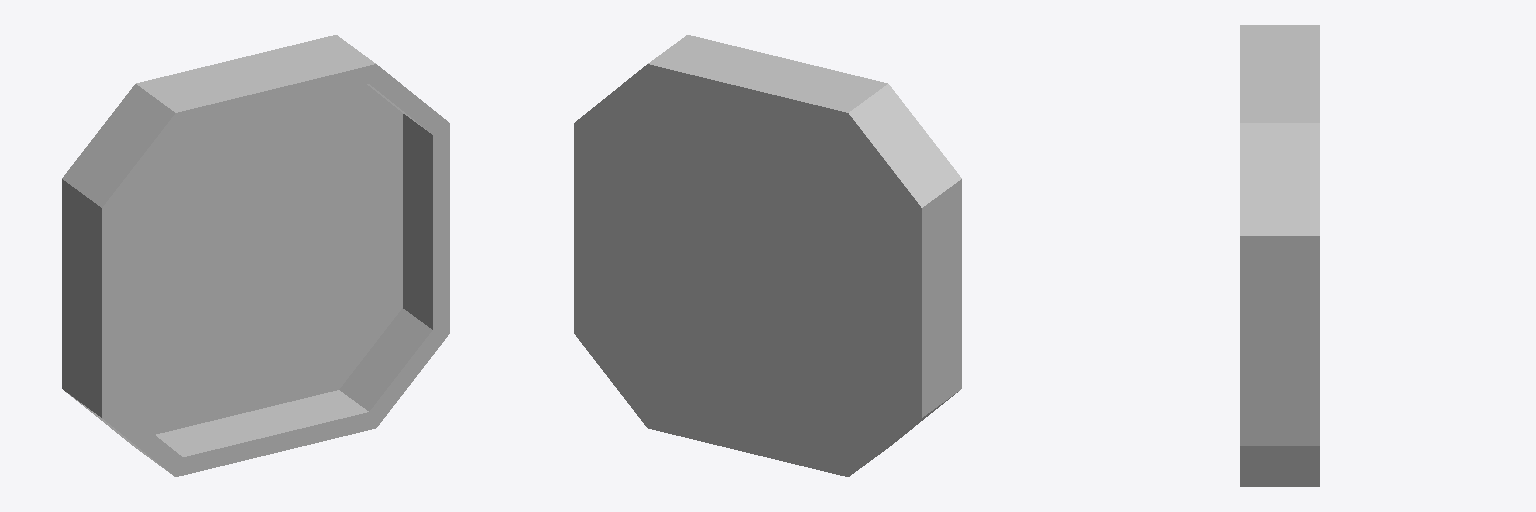
File: bowl.obj
3 renders of one model, left to right at view 1: azimuth 30°, elevation 25°; view 2: azimuth 150°, elevation 25°; view 3: azimuth 270°, elevation 25°, orthographic.
Parts seen in each view (by area): view 1: Cube.001; view 2: Cube.001; view 3: Cube.001.
Boxes of the visible parts, x1,y1,x2,y2 form: Cube.001: [62, 35, 449, 476]; Cube.001: [574, 35, 961, 476]; Cube.001: [1240, 25, 1319, 486].
Size of the model in its own units: 0.1 by 0.1 by 0.02.